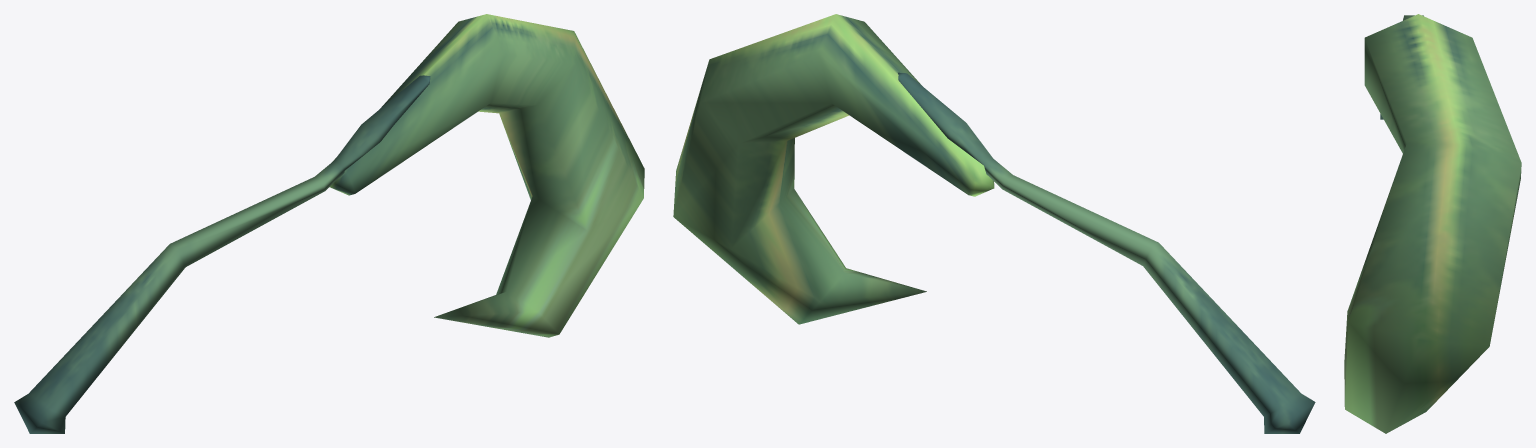
Rendered from bud_leaf.fbx.
3 views of the same model, side by side, from view 1: azimuth 30°, elevation 25°; view 2: azimuth 150°, elevation 25°; view 3: azimuth 270°, elevation 25° (orthographic). The views are drawn at different scales.
Parts seen in each view (by area): view 1: bud_leaf; view 2: bud_leaf; view 3: bud_leaf.
Boxes of the visible parts, x1=… form: bud_leaf: x1=14, y1=14, x2=644, y2=433; bud_leaf: x1=673, y1=14, x2=1315, y2=433; bud_leaf: x1=1344, y1=14, x2=1521, y2=433.
Size of the model in its own units: 0.4557 by 0.2291 by 0.0941.
